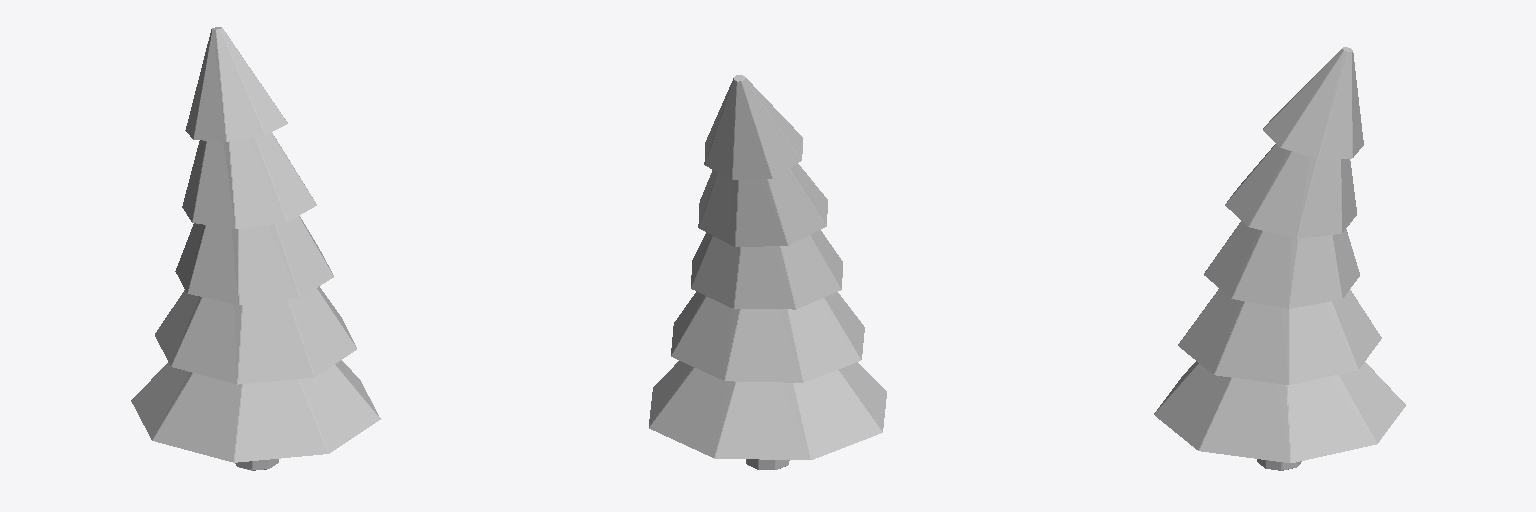
Rendered from treesRoaming.obj.
3 views of the same model, side by side, from view 1: azimuth 30°, elevation 25°; view 2: azimuth 150°, elevation 25°; view 3: azimuth 270°, elevation 25° (orthographic).
Visible parts, largest first — view 1: Mesh; view 2: Mesh; view 3: Mesh.
Part boxes in pixels (bbox=[...]): Mesh: bbox=[131, 27, 380, 470]; Mesh: bbox=[649, 75, 886, 469]; Mesh: bbox=[1154, 47, 1405, 470].
Bounding box in the file's own units: 3.57 × 6.41 × 3.57.